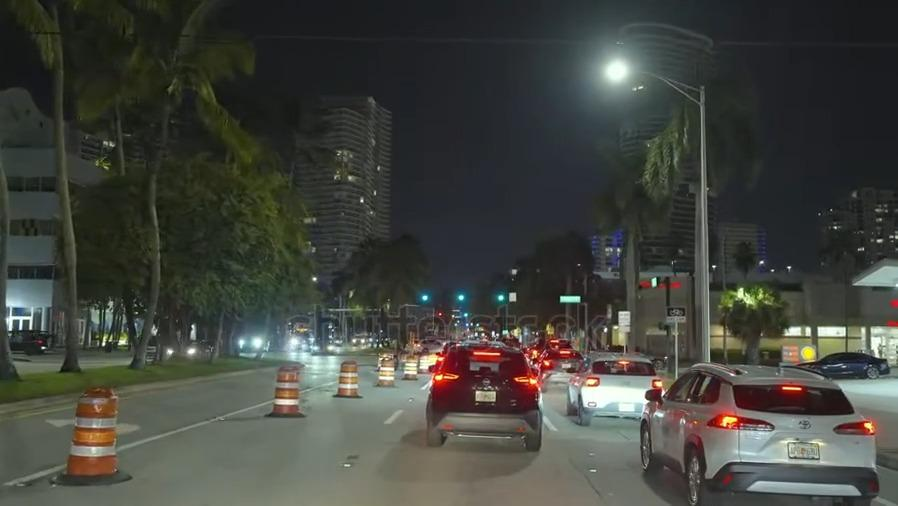car: (641, 359, 873, 495), (422, 345, 543, 447), (570, 352, 657, 416), (796, 348, 892, 378), (534, 344, 578, 383), (8, 326, 55, 354), (167, 339, 212, 363), (233, 330, 271, 356), (312, 337, 335, 356)
cone: (65, 384, 121, 478), (270, 365, 302, 415), (333, 359, 361, 396), (372, 355, 395, 385), (404, 354, 416, 376), (419, 352, 428, 370)
traffic light: (493, 289, 521, 306), (416, 291, 433, 303), (453, 292, 470, 304)
wheel: (681, 445, 707, 503), (632, 427, 655, 468)
